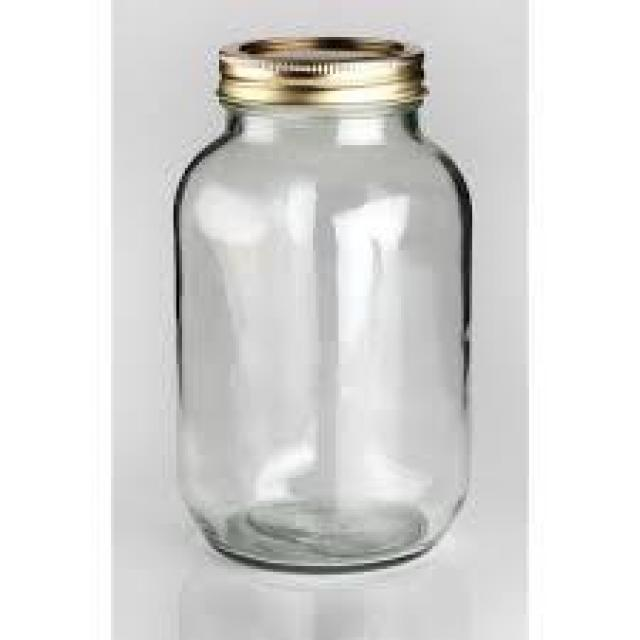non-organic waste: (172, 25, 477, 578)
